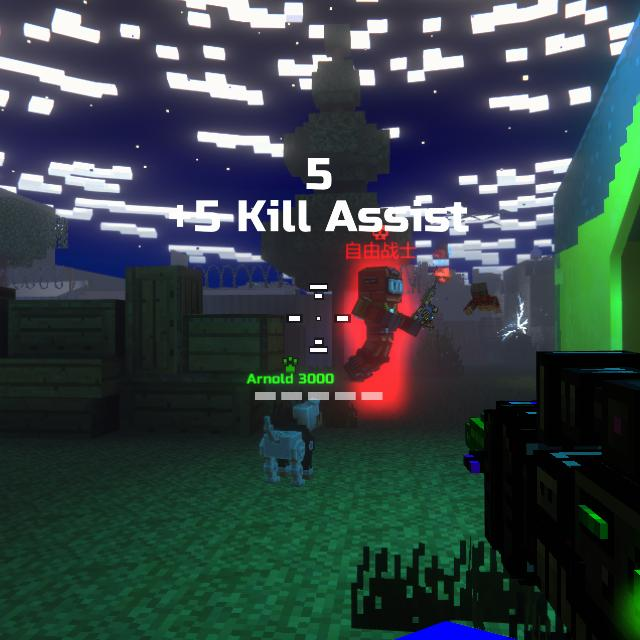Enemy: (343, 267, 417, 384)
